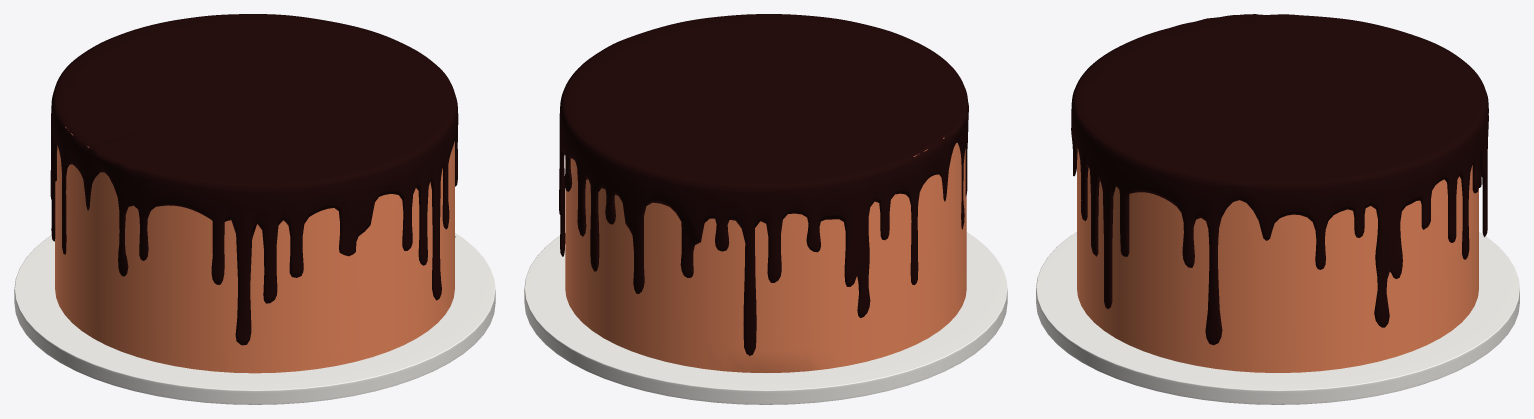
File: 1773122766_cus.glb
The picture shows the model from 3 angles, left to right: view 1: azimuth 30°, elevation 25°; view 2: azimuth 150°, elevation 25°; view 3: azimuth 270°, elevation 25°; orthographic projection.
Visible parts, largest first — view 1: pCylinder3, pCylinder5, pCylinder29_1004_0; view 2: pCylinder3, pCylinder5, pCylinder29_1004_0; view 3: pCylinder3, pCylinder5, pCylinder29_1004_0.
Boxes of the visible parts, x1,y1,x2,y2 form: pCylinder3: [50, 14, 458, 345]; pCylinder5: [55, 126, 454, 373]; pCylinder29_1004_0: [14, 233, 495, 404]; pCylinder3: [559, 14, 968, 356]; pCylinder5: [565, 137, 966, 372]; pCylinder29_1004_0: [524, 232, 1007, 404]; pCylinder3: [1071, 14, 1488, 345]; pCylinder5: [1077, 15, 1478, 372]; pCylinder29_1004_0: [1036, 232, 1519, 404].
Size of the model in its own units: 0.024 by 0.0112 by 0.024.
4 materials, 3 textured.
